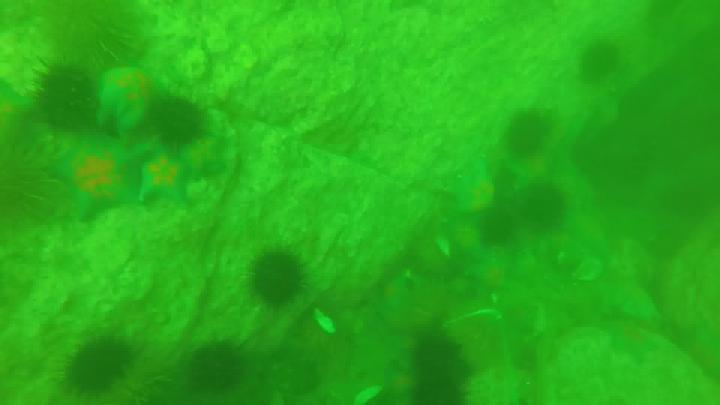echinus: (29, 62, 101, 136), (409, 335, 470, 405), (67, 340, 141, 396), (145, 99, 207, 151), (189, 344, 249, 396), (251, 255, 308, 308), (504, 108, 556, 159), (522, 182, 568, 226), (586, 41, 628, 87), (478, 206, 511, 244)
scallop: (571, 258, 606, 283)
starfish: (55, 137, 144, 220), (138, 152, 197, 216)
